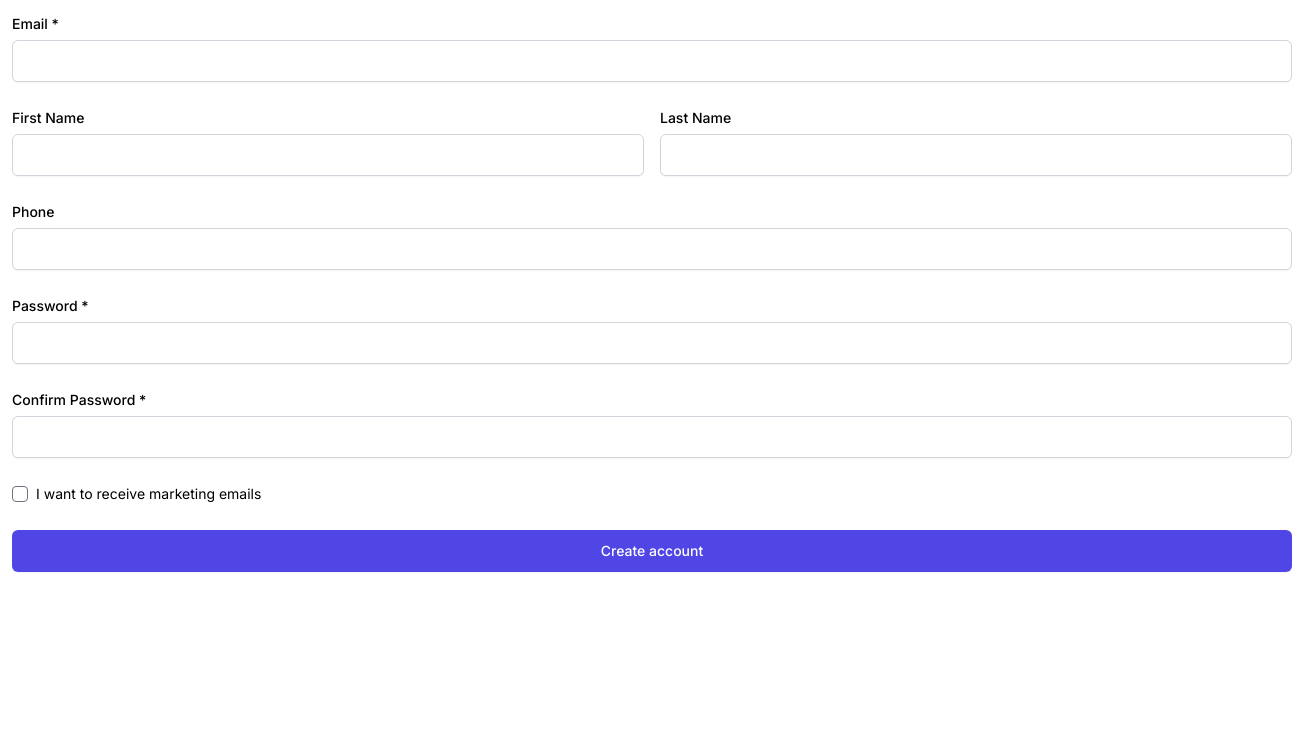
Test: RegisterForm › should show validation error when password is less than 8 characters
In the field labelled "Email *": (652, 61) [12, 40, 1292, 82], type "test@example.com"
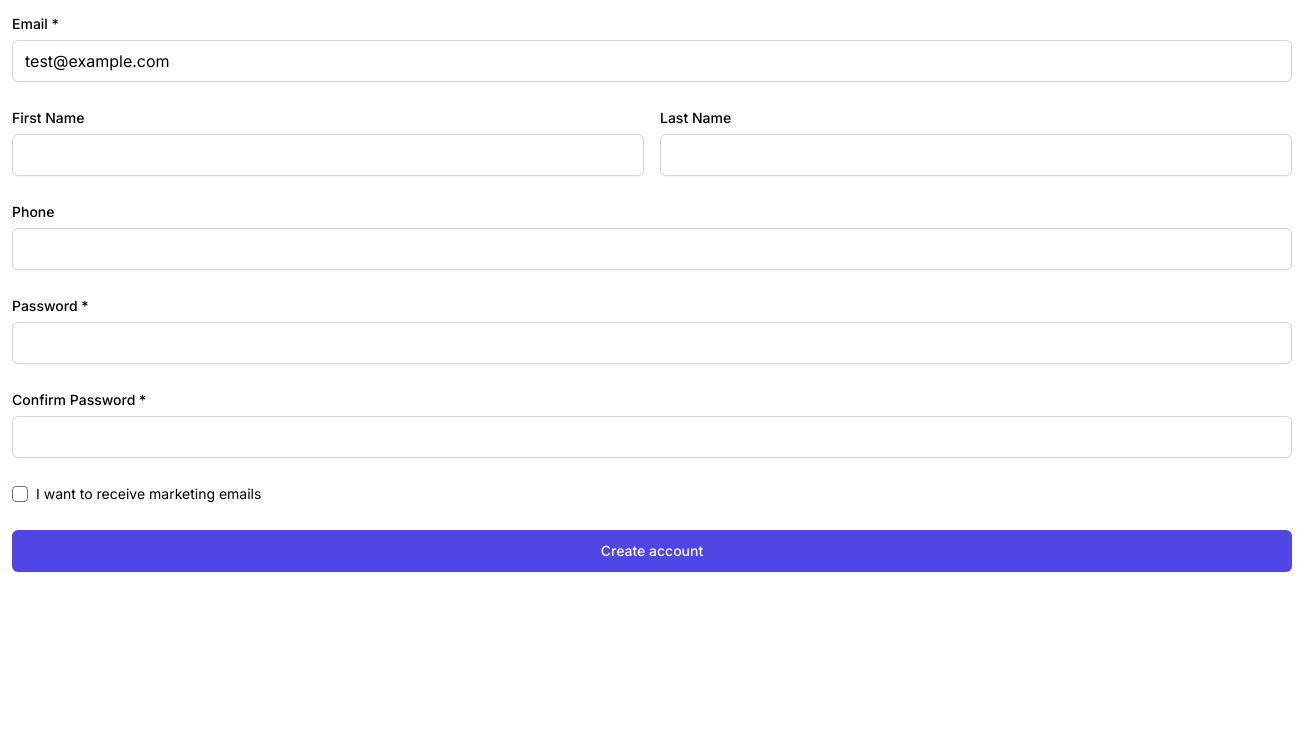
In the password field labelled "Password *": (652, 343) [12, 322, 1292, 364], type "short"
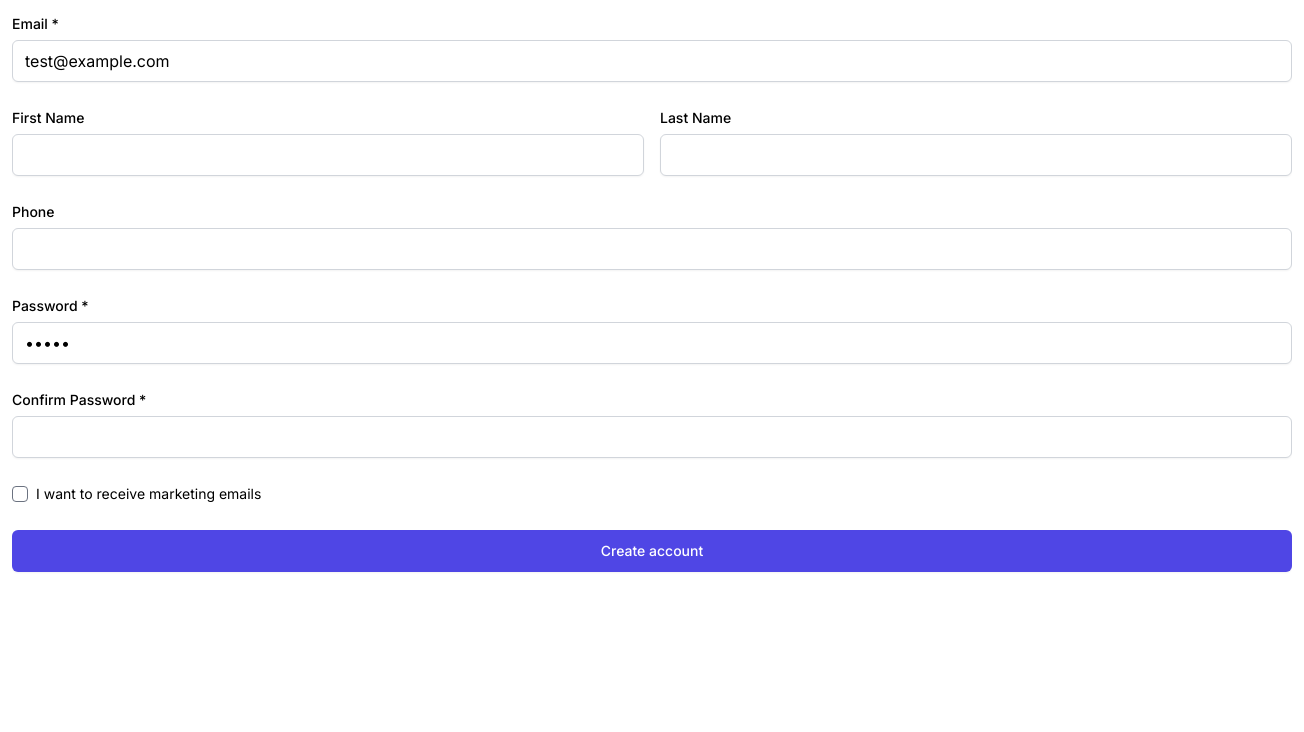
In the password field labelled "Confirm Password *": (652, 437) [12, 416, 1292, 458], type "short"
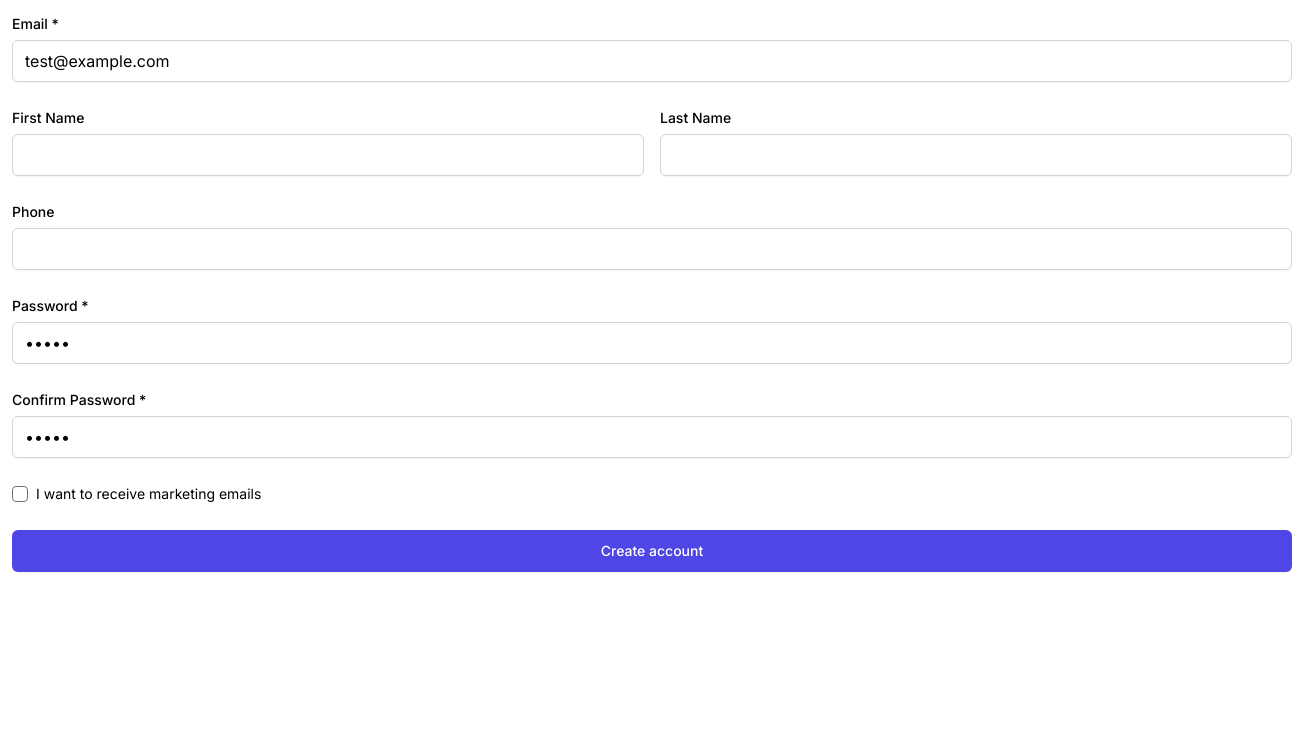
Click the button "Create account": click(652, 551) [12, 530, 1292, 572]
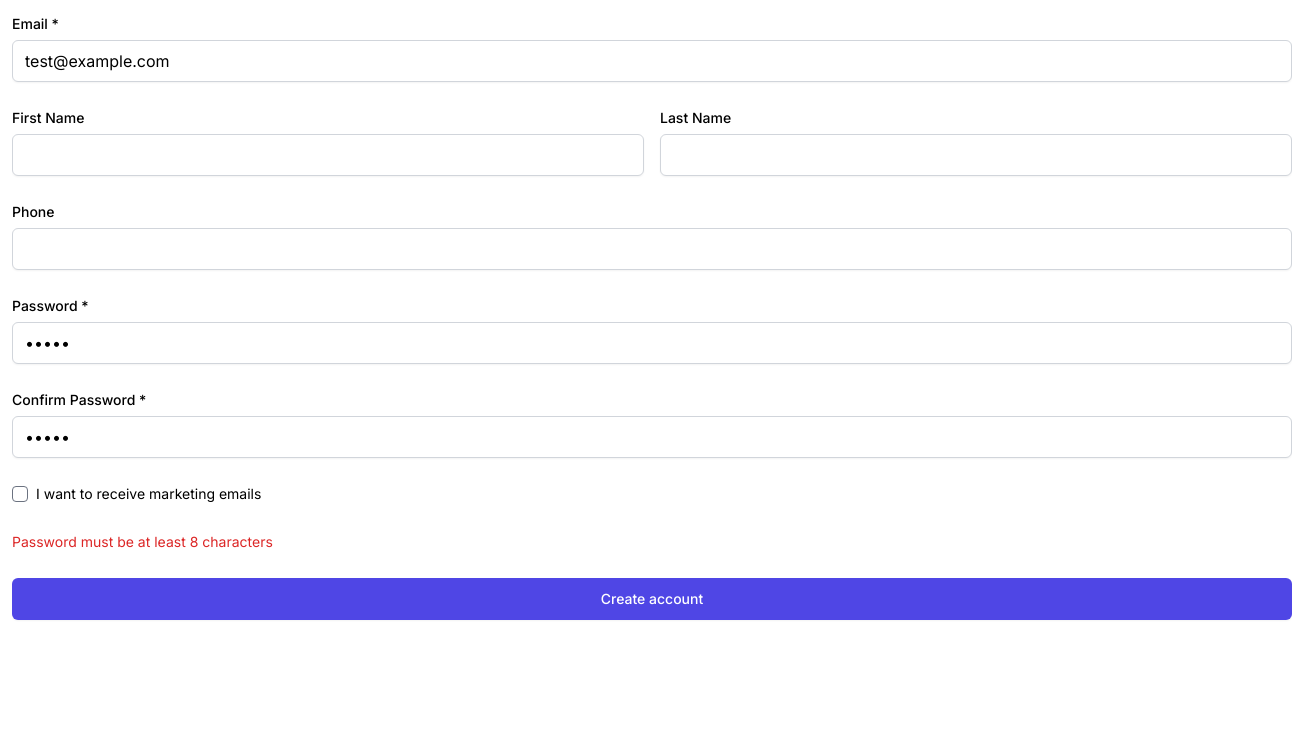
expect the text "Password must be at least 8 characters" is shown: met, box [12, 533, 273, 550]
